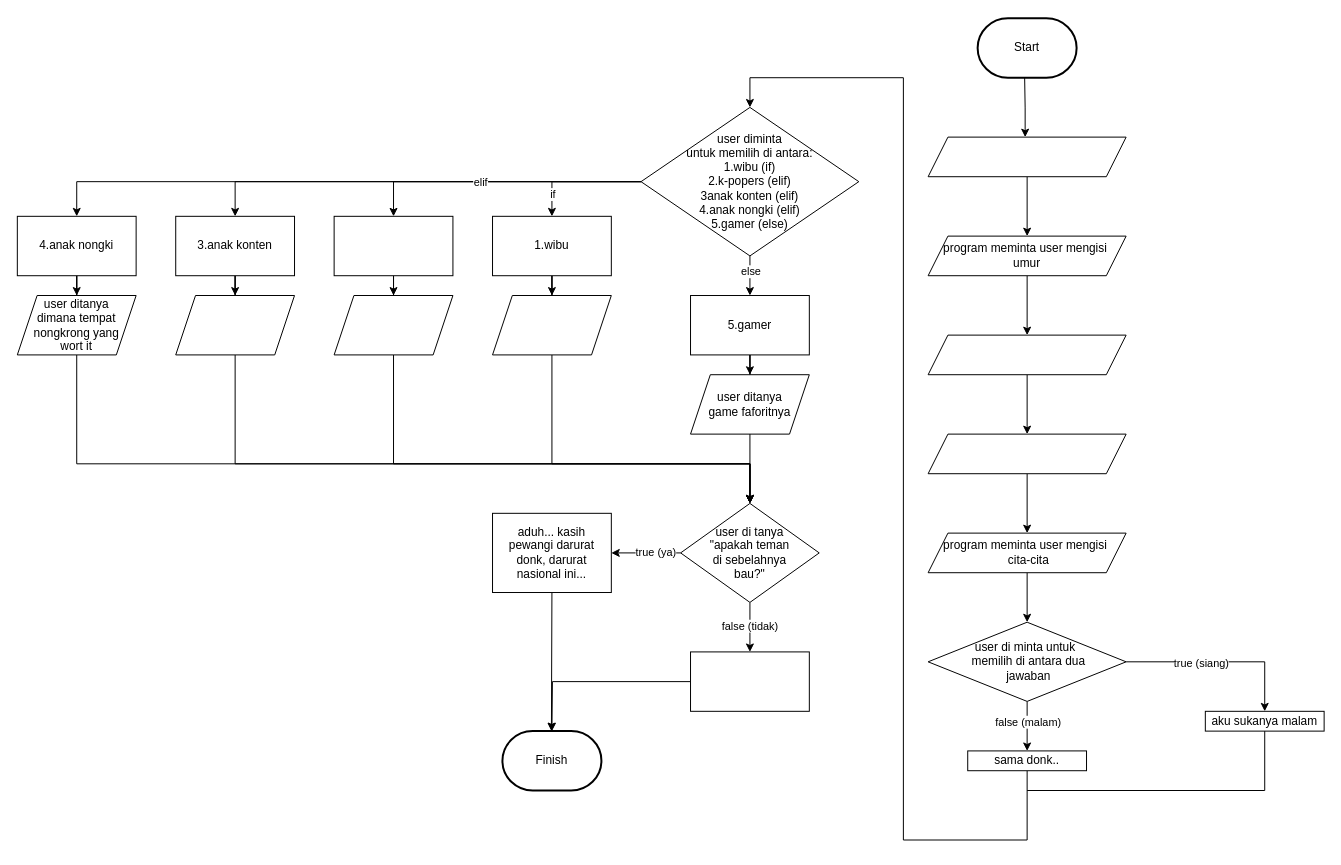
Some shapes in this 1341 by 865 pixel diagram are drawn without their labels. Each missing label, with the box of its shape:
2.k-popers: (333, 215, 453, 276)
aman berarti...: (690, 651, 809, 711)
program meminta user mengisi hobi: (927, 433, 1126, 474)
program meminta user mengisi kelas: (927, 334, 1126, 375)
program meminta user mengisi nama: (927, 136, 1126, 177)
user ditanya platformnya: (175, 295, 295, 355)
user ditanya siapa biasnya: (333, 295, 453, 355)
user ditanya siapa waifunya: (492, 295, 611, 355)
